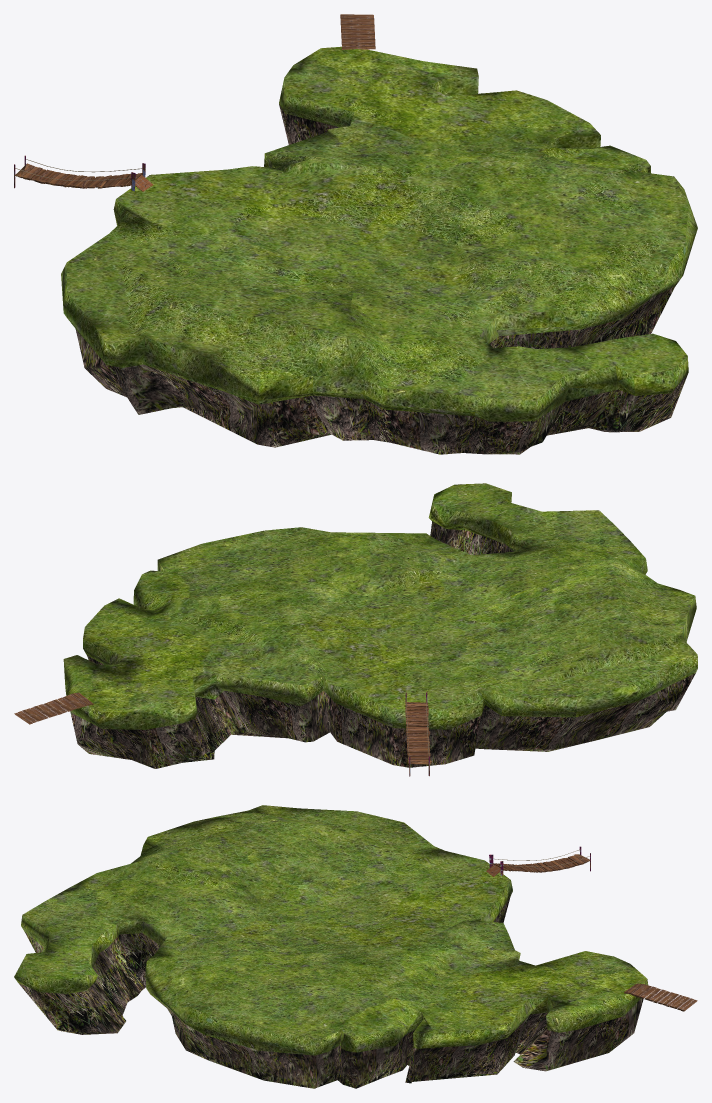
File: ChinampaD.obj
The picture shows the model from 3 angles, top to bottom: view 1: azimuth 30°, elevation 25°; view 2: azimuth 150°, elevation 25°; view 3: azimuth 270°, elevation 25°; orthographic projection. The views are drawn at different scales.
Visible parts, largest first — view 1: floating_island_1.1, defaultMaterial.019, defaultMaterial.026; view 2: floating_island_1.1, defaultMaterial.019, defaultMaterial.026; view 3: floating_island_1.1, defaultMaterial.026, defaultMaterial.019.
Part boxes in pixels (x1,y1,x2,y2): floating_island_1.1: (61, 46, 697, 454); defaultMaterial.019: (15, 163, 142, 188); defaultMaterial.026: (340, 14, 375, 49); floating_island_1.1: (63, 483, 697, 768); defaultMaterial.019: (405, 702, 431, 764); defaultMaterial.026: (14, 692, 93, 724); floating_island_1.1: (14, 805, 648, 1088); defaultMaterial.026: (624, 983, 697, 1011); defaultMaterial.019: (493, 854, 590, 872).
Size of the model in its own units: 181 by 32.64 by 228.
6 materials, 6 textured.
